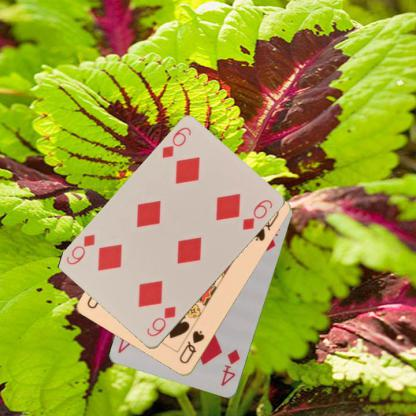4d: (219, 346, 242, 388)
6d: (159, 124, 192, 160), (144, 304, 177, 338)
Qs: (176, 328, 206, 366)
